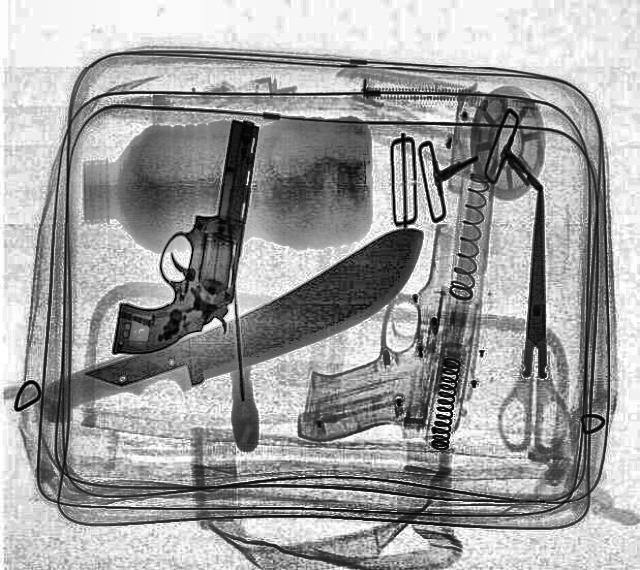Gun: (108, 118, 258, 356)
Knife: (82, 226, 428, 388)
